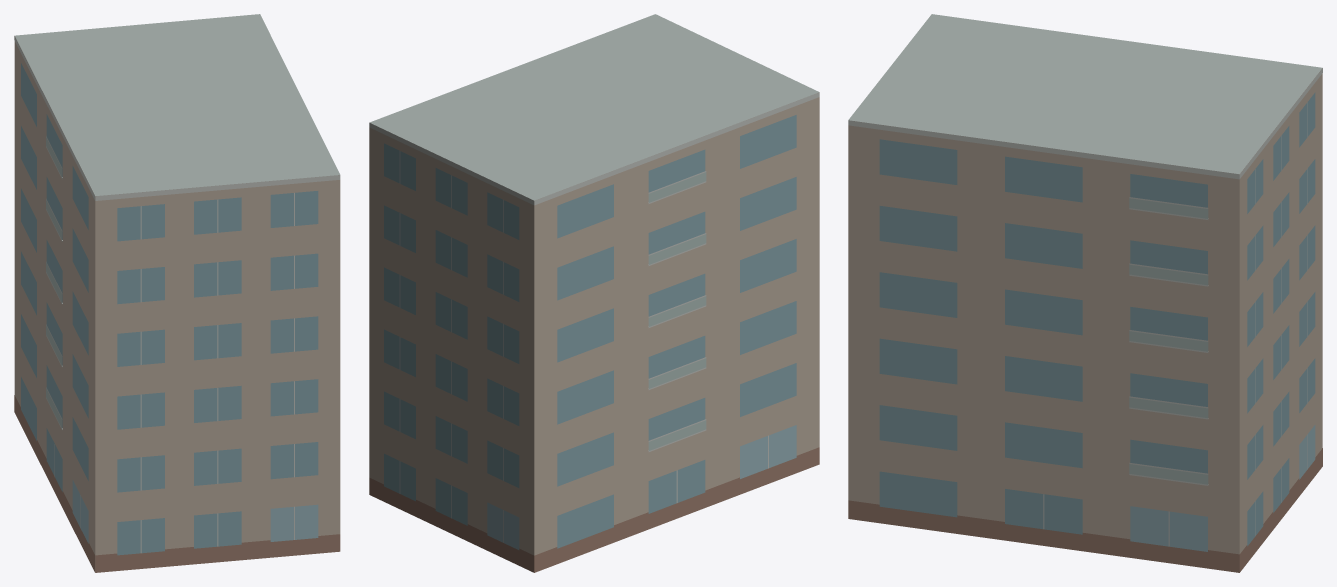
File: survey-upis-32856959.glb
The picture shows the model from 3 angles, left to right: view 1: azimuth 30°, elevation 25°; view 2: azimuth 150°, elevation 25°; view 3: azimuth 270°, elevation 25°; orthographic projection. The views are drawn at different scales.
Parts seen in each view (by area): view 1: survey-upis-32856959.tmp; view 2: survey-upis-32856959.tmp; view 3: survey-upis-32856959.tmp.
Boxes of the visible parts, bbox=[...] form: survey-upis-32856959.tmp: bbox=[14, 14, 340, 572]; survey-upis-32856959.tmp: bbox=[369, 14, 819, 572]; survey-upis-32856959.tmp: bbox=[848, 14, 1322, 572].
Bounding box in the file's own units: 16.3 × 18.9 × 20.4.
